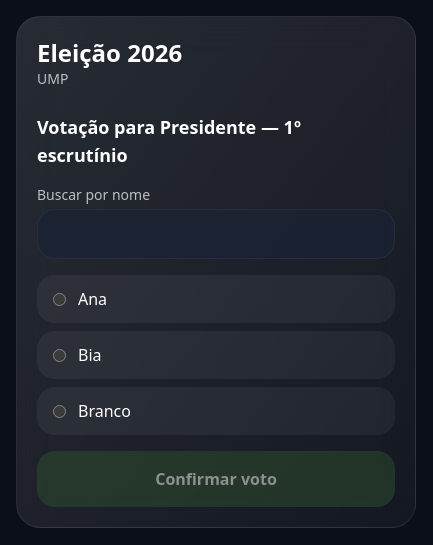
Test: VotePage › depois de votar mostra o código do comprovante
Step 1. Click the radio button labelled "Bia" → click(60, 355), box [53, 348, 66, 362]
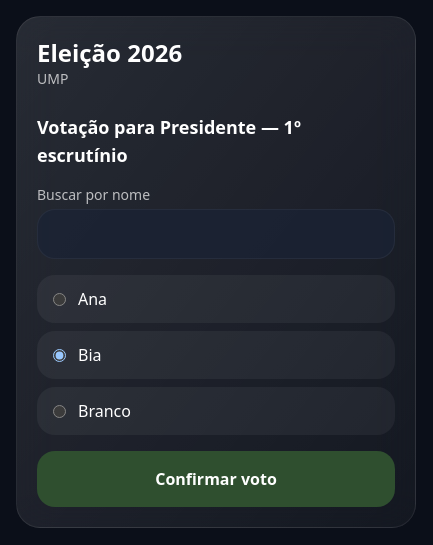
Step 2. Click the button "Confirmar voto" → click(216, 479), box [37, 451, 395, 507]
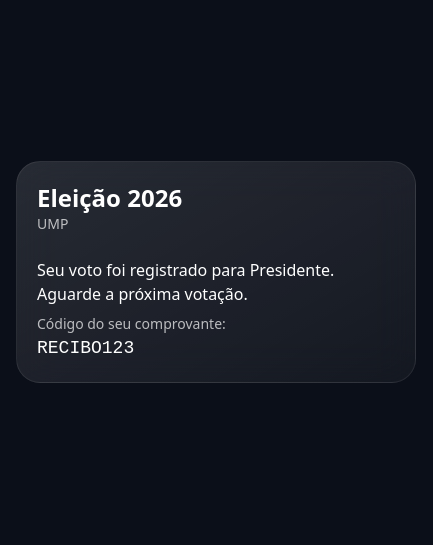
Check: the text "RECIBO123" is shown, box [37, 338, 134, 358]
Check: the text "Seu voto foi registrado" is shown, box [37, 259, 250, 281]
